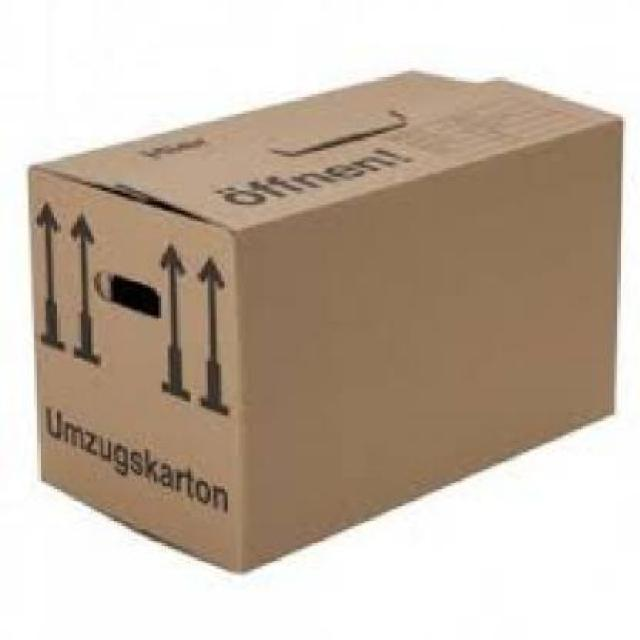cardboard: (23, 68, 621, 572)
